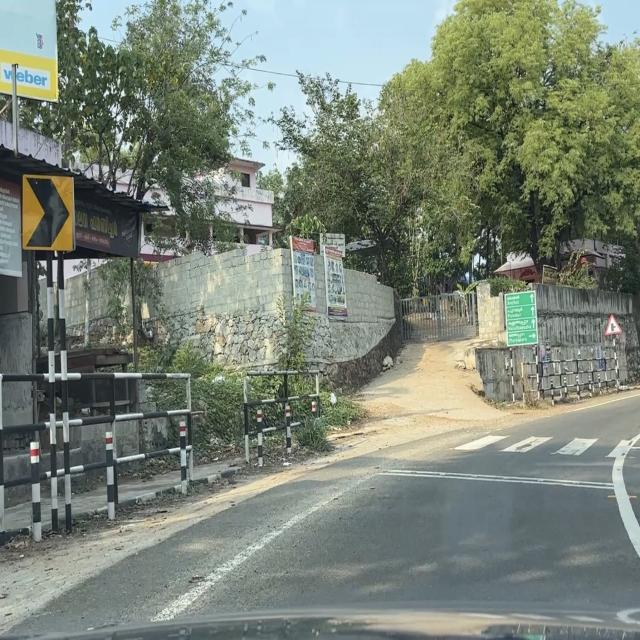GENERAL: (504, 289, 540, 347)
SIDE_ROAD_RIGHT: (604, 314, 623, 336)
TURN_RIGHT: (21, 172, 75, 252)
